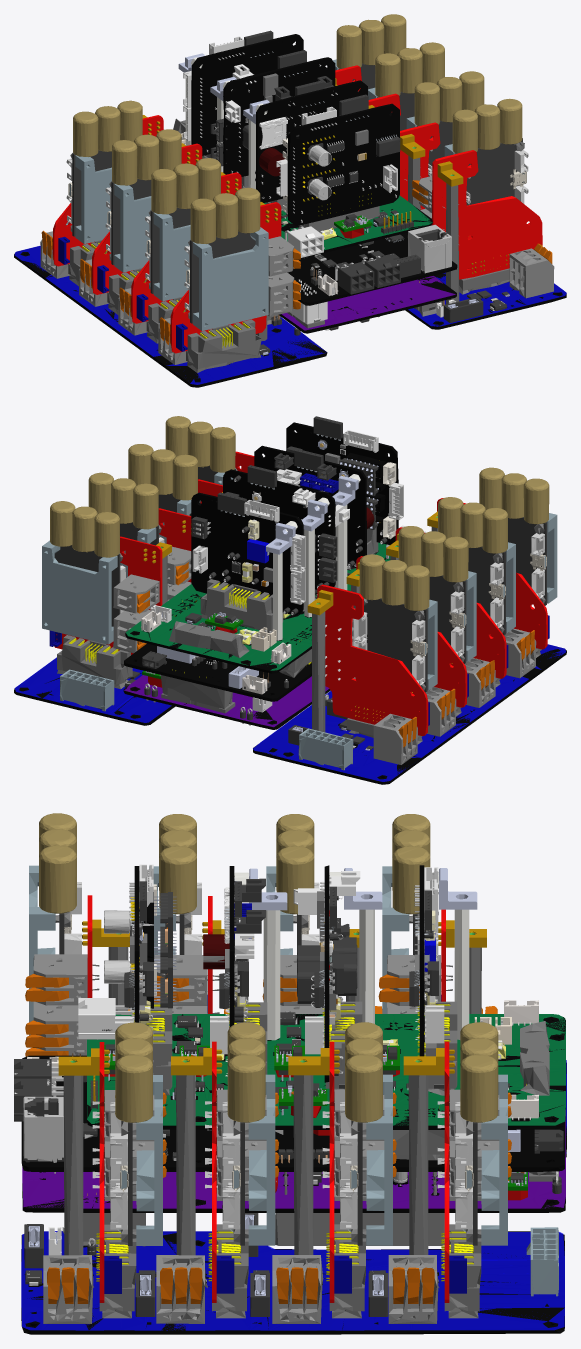
The model's file is auv5-electrical-stack.glb.
3 views of the same model, one above another, from view 1: azimuth 30°, elevation 25°; view 2: azimuth 150°, elevation 25°; view 3: azimuth 270°, elevation 25° (orthographic). The views are drawn at different scales.
Visible parts, largest first — view 1: AUV5 ESC Adaptor Board.step-3, AUV5 ESC Adaptor Board.step-8, AUV5_0-1_Actuation_Board_Motor, AUV5_0-2_0_ESC_Backplane_R, AUV5 ESC Adaptor Board.step-2, AUV5 ESC Adaptor Board.step-1, AUV5 ESC Adaptor Board.step-4, AUV5_0-2_PSB_Bottom_Layer, AUV5_0-1_Lights_Control_Board, AUV5 ESC Adaptor Board.step-6, AUV5_0-2_0_ESC_Backplane_L, AUV5_0-1_Actuation_Board_Servo (+6 smaller); view 2: AUV5 ESC Adaptor Board.step-4, AUV5 ESC Adaptor Board.step-7, AUV5_0-2_0_ESC_Backplane_R, AUV5_0-1_Actuation_Board_Servo, AUV5_0-3_PSB_Top_Layer, AUV5 ESC Adaptor Board.step-3, AUV5 ESC Adaptor Board.step-1, AUV5 ESC Adaptor Board.step-2, AUV5_0-1_Actuation_Board_Motor, AUV5_0-2_PSB_Bottom_Layer, AUV5 ESC Adaptor Board.step-5, AUV5_0-2_0_ESC_Backplane_L (+11 smaller); view 3: AUV5_0-2_0_ESC_Backplane_L, AUV5_0-3_PSB_Top_Layer, AUV5 ESC Adaptor Board.step-7, AUV5 ESC Adaptor Board.step-8, AUV5 ESC Adaptor Board.step-5, AUV5 ESC Adaptor Board.step-6, AUV5 ESC Adaptor Board.step-3, AUV5_0-3_PDB, AUV5_0-2_PSB_Bottom_Layer, AUV5_0-1_Actuation_Board_Motor, AUV5 ESC Adaptor Board.step-4, AUV5_0-1_Lights_Control_Board (+10 smaller).
Part boxes in pixels (x1,y1,x2,y2): AUV5 ESC Adaptor Board.step-3: (170,187,300,369); AUV5 ESC Adaptor Board.step-8: (412,98,542,304); AUV5_0-1_Actuation_Board_Motor: (276,94,400,231); AUV5_0-2_0_ESC_Backplane_R: (14,221,327,387); AUV5 ESC Adaptor Board.step-2: (131,158,241,339); AUV5 ESC Adaptor Board.step-1: (91,129,202,309); AUV5 ESC Adaptor Board.step-4: (52,100,163,281); AUV5_0-2_PSB_Bottom_Layer: (287,224,457,323); AUV5_0-1_Lights_Control_Board: (210,50,335,186); AUV5 ESC Adaptor Board.step-6: (400,71,484,237); AUV5_0-2_0_ESC_Backplane_L: (405,243,566,329); AUV5_0-1_Actuation_Board_Servo: (183,30,303,159); AUV5 ESC Adaptor Board.step-4: (307,554,437,739); AUV5 ESC Adaptor Board.step-7: (42,501,171,684); AUV5_0-2_0_ESC_Backplane_R: (253,628,566,784); AUV5_0-1_Actuation_Board_Servo: (191,492,305,630); AUV5_0-3_PSB_Top_Layer: (125,525,425,673); AUV5 ESC Adaptor Board.step-3: (427,467,557,652); AUV5 ESC Adaptor Board.step-1: (346,526,476,710); AUV5 ESC Adaptor Board.step-2: (386,497,515,681); AUV5_0-1_Actuation_Board_Motor: (286,416,403,554); AUV5_0-2_PSB_Bottom_Layer: (124,643,311,708); AUV5 ESC Adaptor Board.step-5: (88,472,191,600); AUV5_0-2_0_ESC_Backplane_L: (14,657,175,725); AUV5_0-2_0_ESC_Backplane_L: (21,1213,564,1334); AUV5_0-3_PSB_Top_Layer: (78,998,565,1155); AUV5 ESC Adaptor Board.step-7: (403,1022,511,1311); AUV5 ESC Adaptor Board.step-8: (58,1022,166,1311); AUV5 ESC Adaptor Board.step-5: (288,1022,396,1311); AUV5 ESC Adaptor Board.step-6: (171,1022,279,1311); AUV5 ESC Adaptor Board.step-3: (25,813,129,1056); AUV5_0-3_PDB: (22,1108,565,1245); AUV5_0-2_PSB_Bottom_Layer: (14,1053,565,1175); AUV5_0-1_Actuation_Board_Motor: (104,864,176,1089); AUV5 ESC Adaptor Board.step-4: (378,814,486,1013); AUV5_0-1_Lights_Control_Board: (293,865,362,1088).
Bounding box in the file's own units: 0.2203 × 0.1211 × 0.1882.
